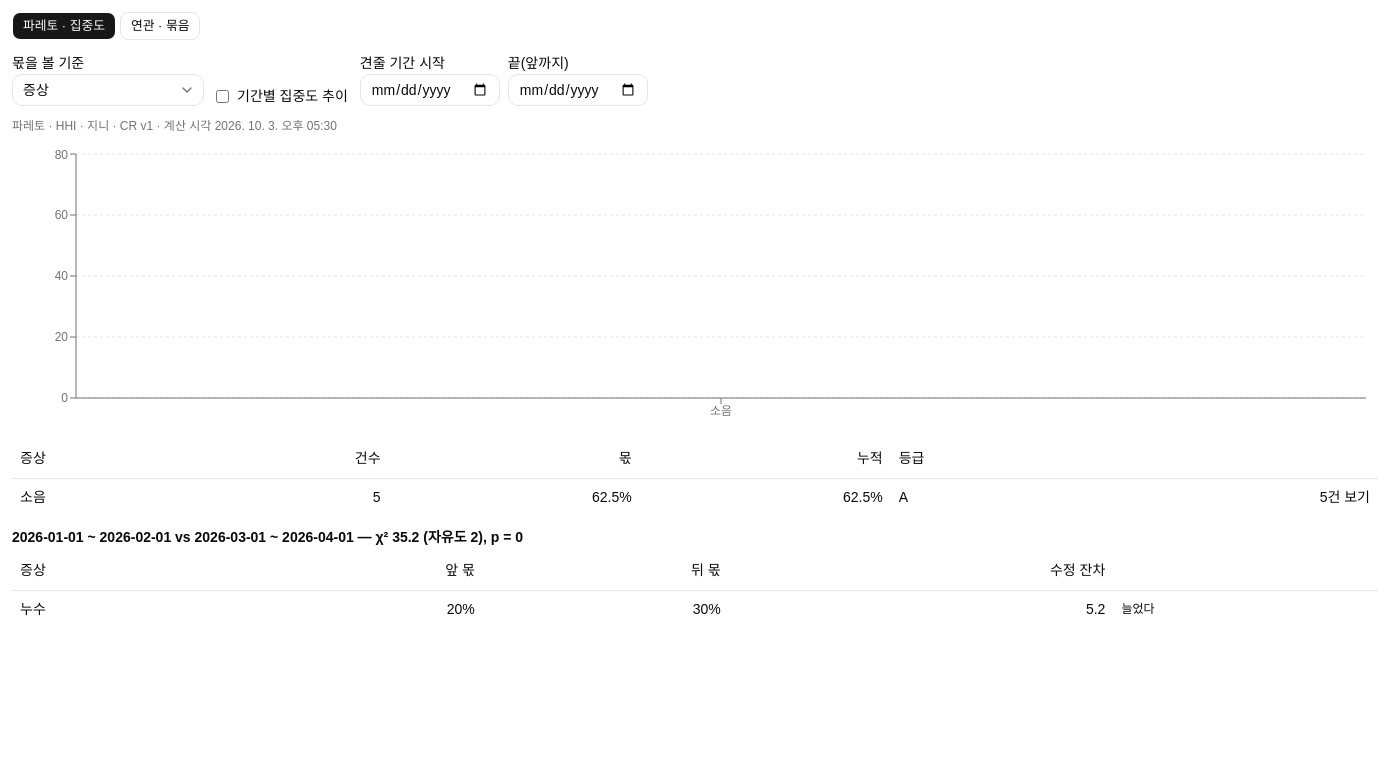
it: 분석 탭 › 연관은 짝과 묶음을, 파레토는 두 기간의 몫 변화를 적는다
Expected: the text "늘었다" is shown, left=1113, top=590, right=1378, bottom=627
Click the button "연관 · 묶음" at point(160, 26), box left=120, top=12, right=200, bottom=40
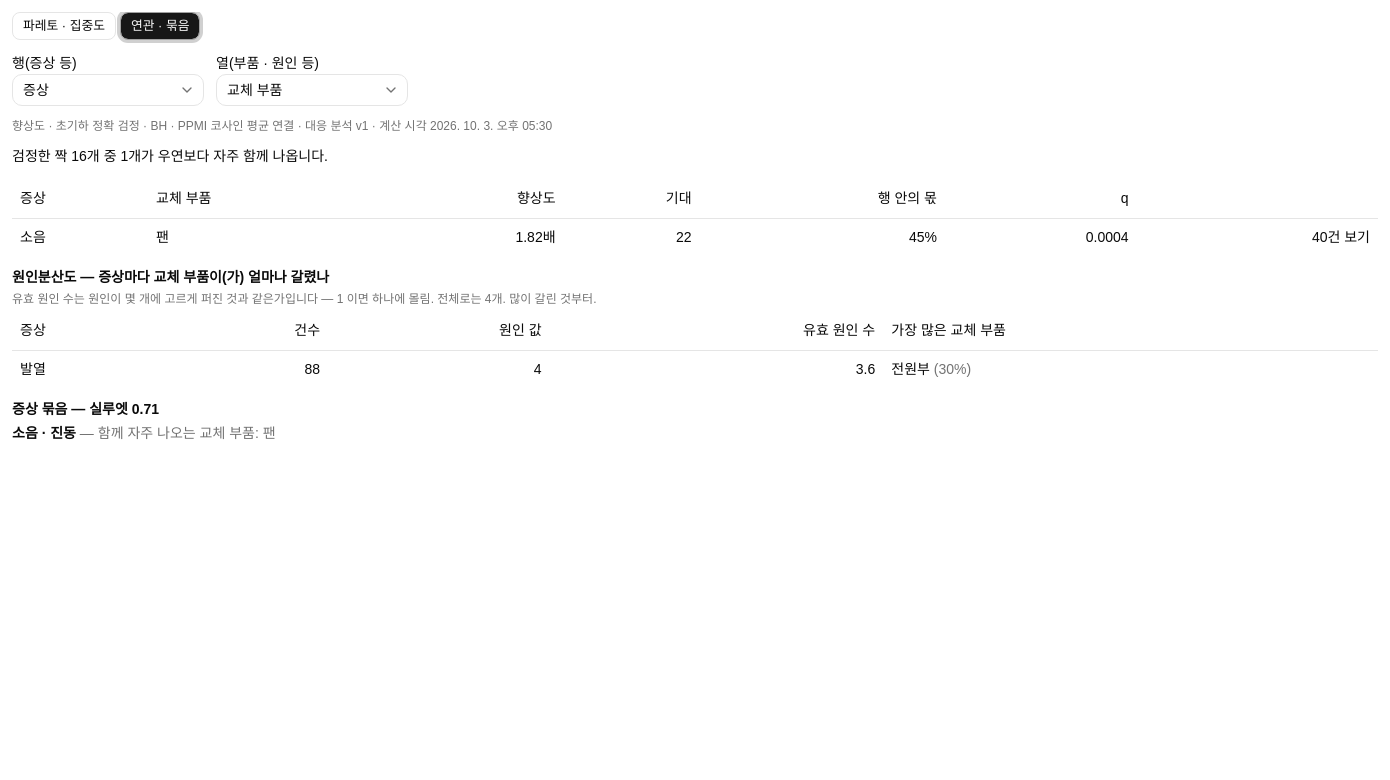
Expected: the text "1.82배" is shown, left=381, top=218, right=564, bottom=254
Expected: the text "소음 · 진동" is shown, left=12, top=425, right=76, bottom=441
Expected: the text "발열" is shown, left=12, top=350, right=170, bottom=387
